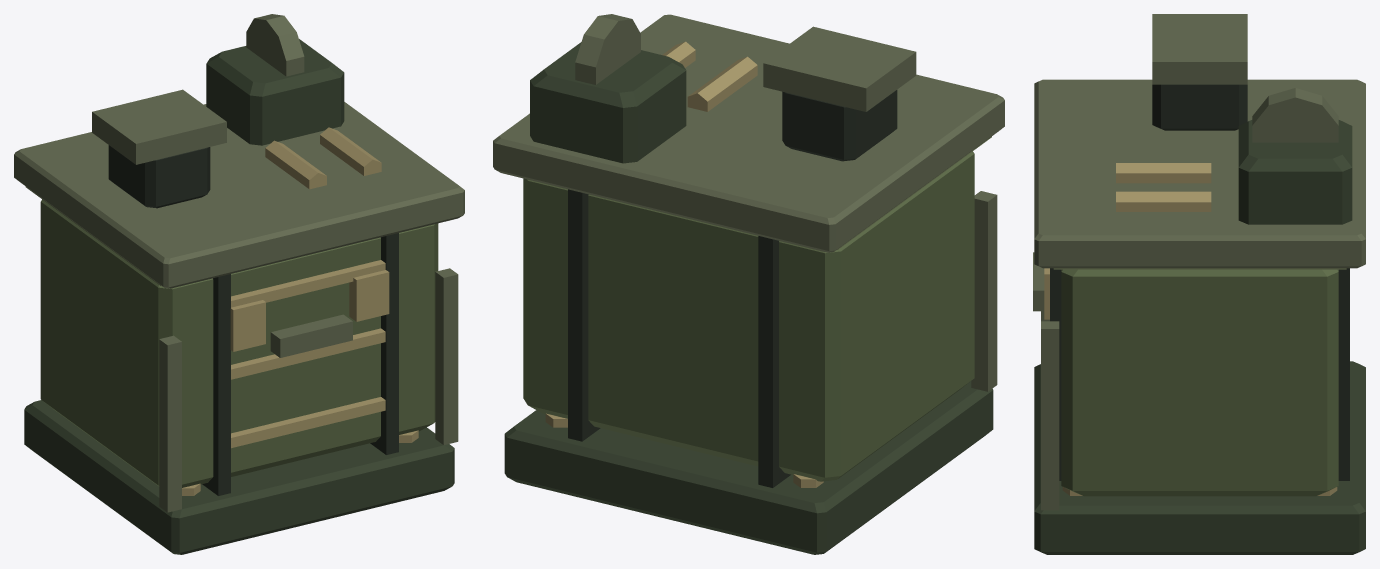
Rendered from workshop.obj.
3 views of the same model, side by side, from view 1: azimuth 30°, elevation 25°; view 2: azimuth 150°, elevation 25°; view 3: azimuth 270°, elevation 25° (orthographic). The views are drawn at different scales.
Parts seen in each view (by area): view 1: BASE.023; view 2: BASE.023; view 3: BASE.023.
Part boxes in pixels (box(x1,y1,x2,y2)): BASE.023: box(14, 14, 464, 554); BASE.023: box(493, 14, 1004, 554); BASE.023: box(1033, 14, 1365, 554).
Bounding box in the file's own units: 0.83 × 1.05 × 0.7325.
Materials: 1 (1 with a texture image).
